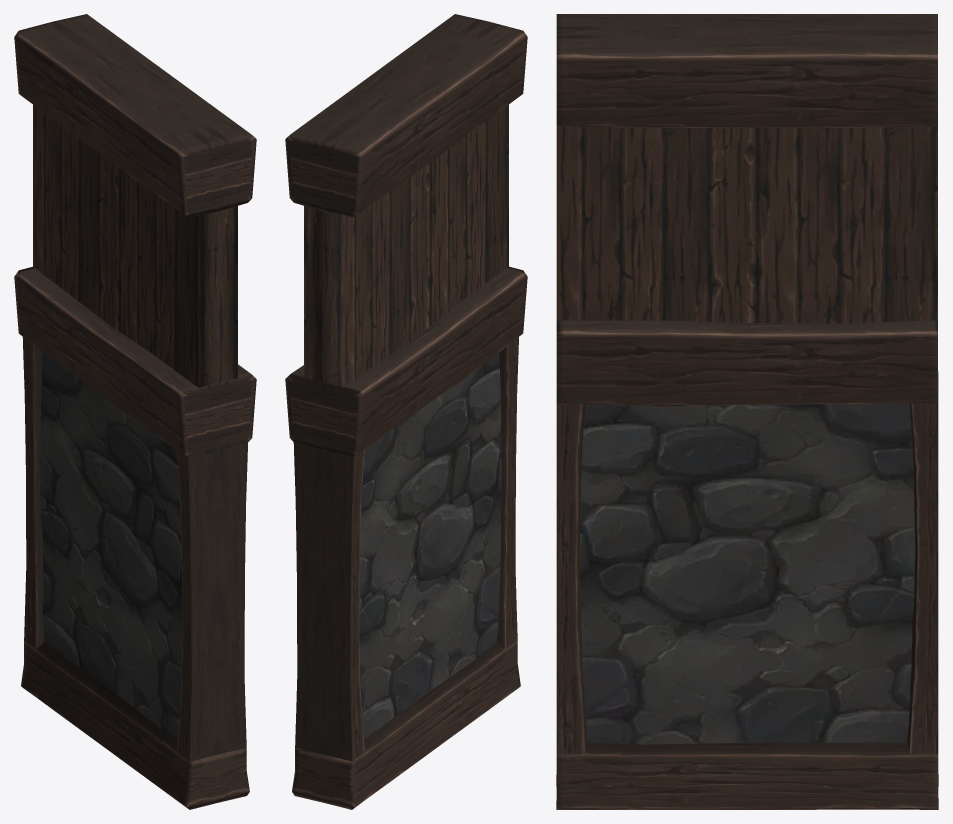
3 views of the same model, side by side, from view 1: azimuth 30°, elevation 25°; view 2: azimuth 150°, elevation 25°; view 3: azimuth 270°, elevation 25° (orthographic). The views are drawn at different scales.
Bounding box in the file's own units: 1.35 × 11.01 × 5.01.
4 materials, 4 textured.
